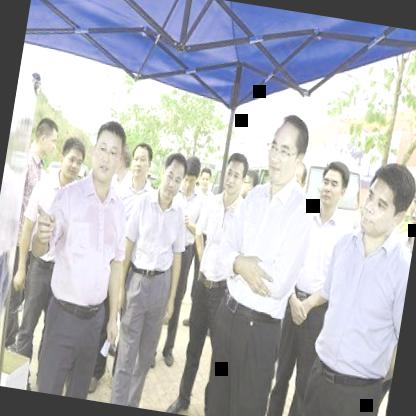head: (355, 158, 416, 251), (261, 108, 315, 192), (86, 116, 131, 188), (314, 153, 354, 212), (54, 133, 90, 188), (219, 144, 253, 202), (158, 147, 190, 203), (26, 112, 60, 164), (125, 139, 157, 188), (177, 153, 204, 202), (403, 167, 416, 236), (196, 164, 212, 198)
